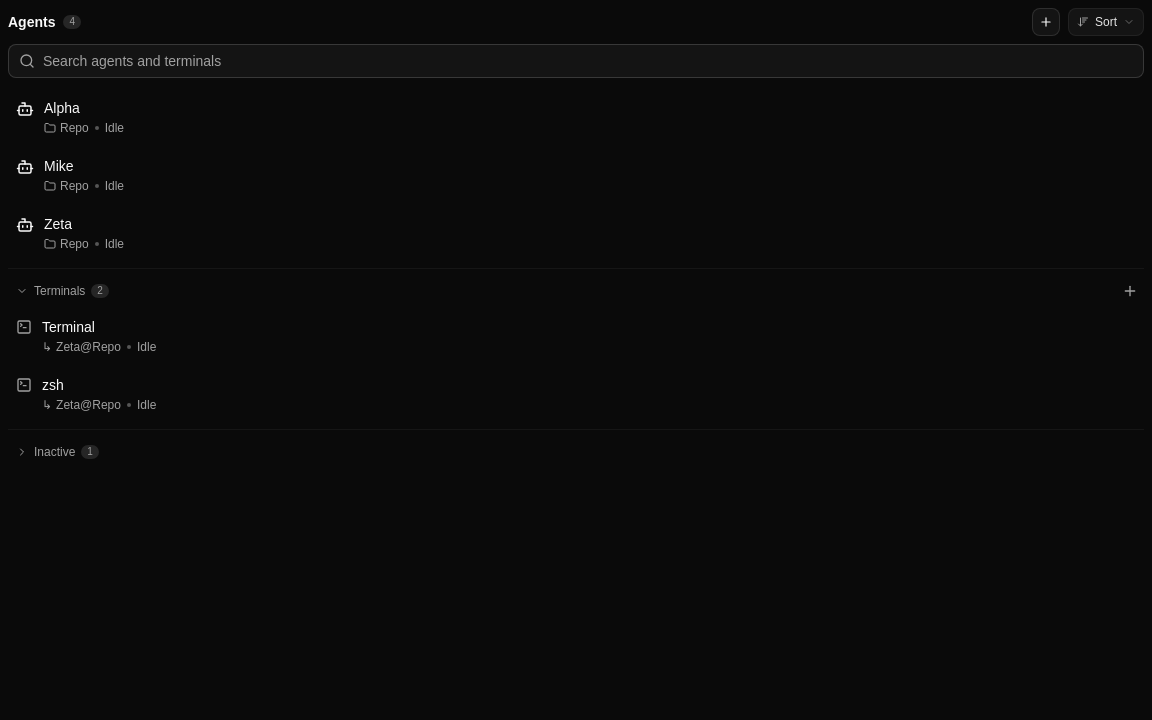
Test: FlatAgentList drag from any sort mode › main rows carry drag props in a computed (name) mode; quiet rows never do
The width and height of the screenshot is (1152, 720).
Click the text "Inactive" at (55, 452), box left=34, top=444, right=75, bottom=460
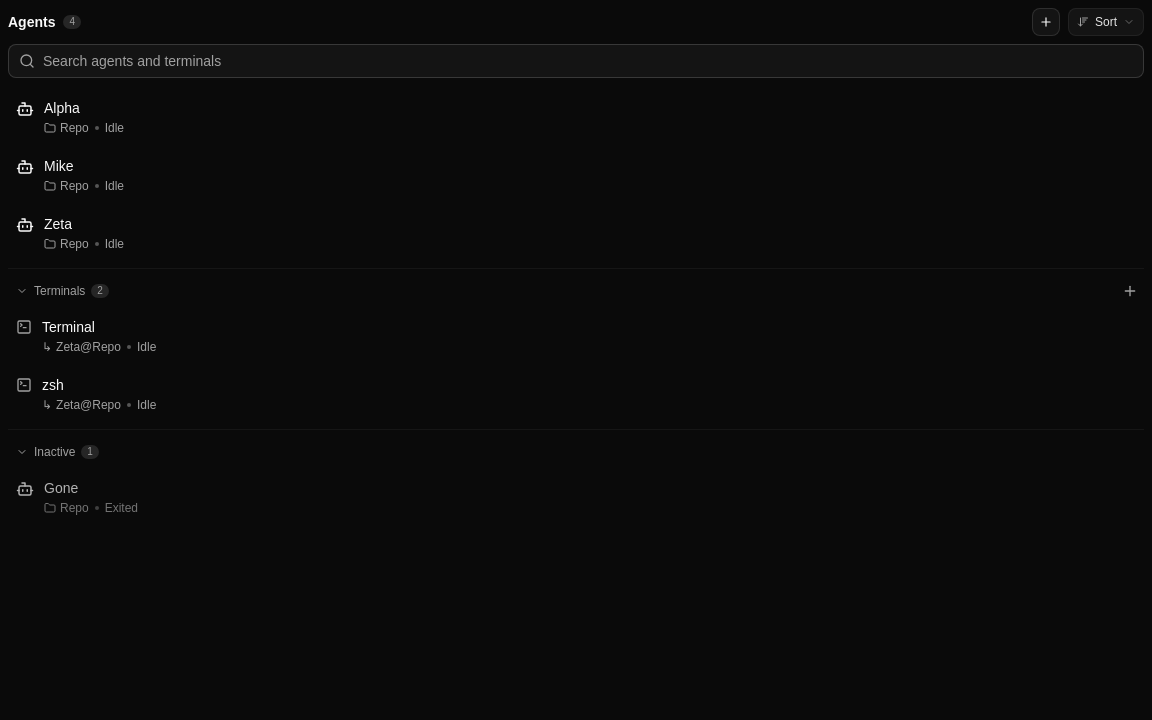
Expected: the button "Gone Repo Exited" is shown, left=8, top=470, right=1140, bottom=524
